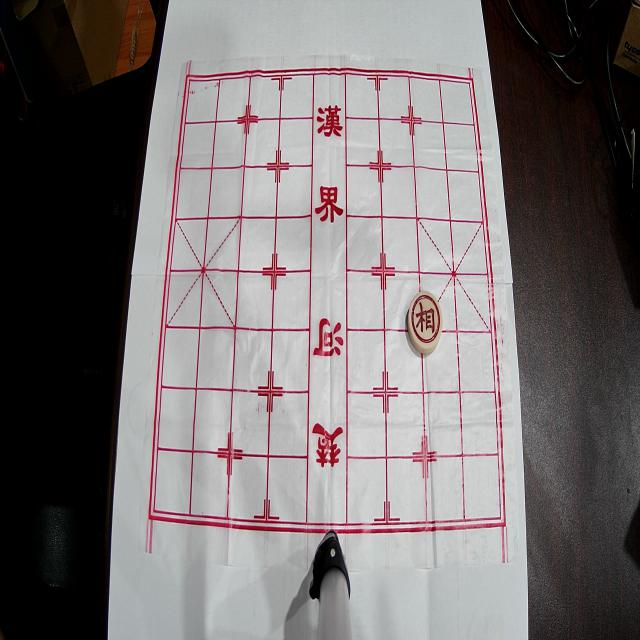red-elephant: (408, 291, 442, 353)
